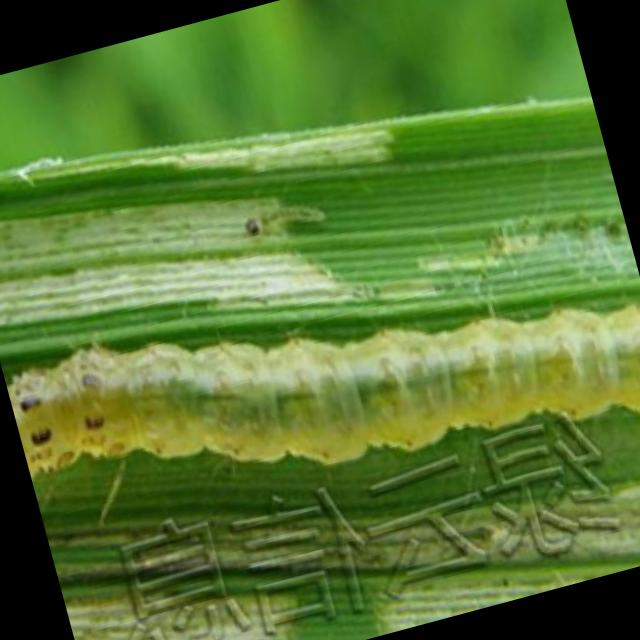leaf-folder: (3, 208, 640, 585), (228, 182, 322, 248)
